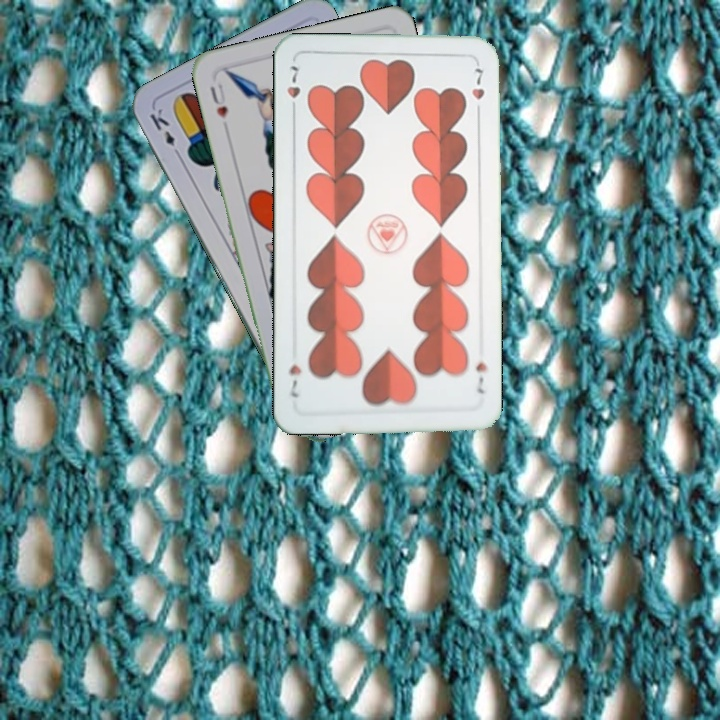EK: (145, 104, 184, 161)
H7: (282, 62, 302, 118), (472, 358, 490, 397)
HU: (206, 79, 230, 121)
